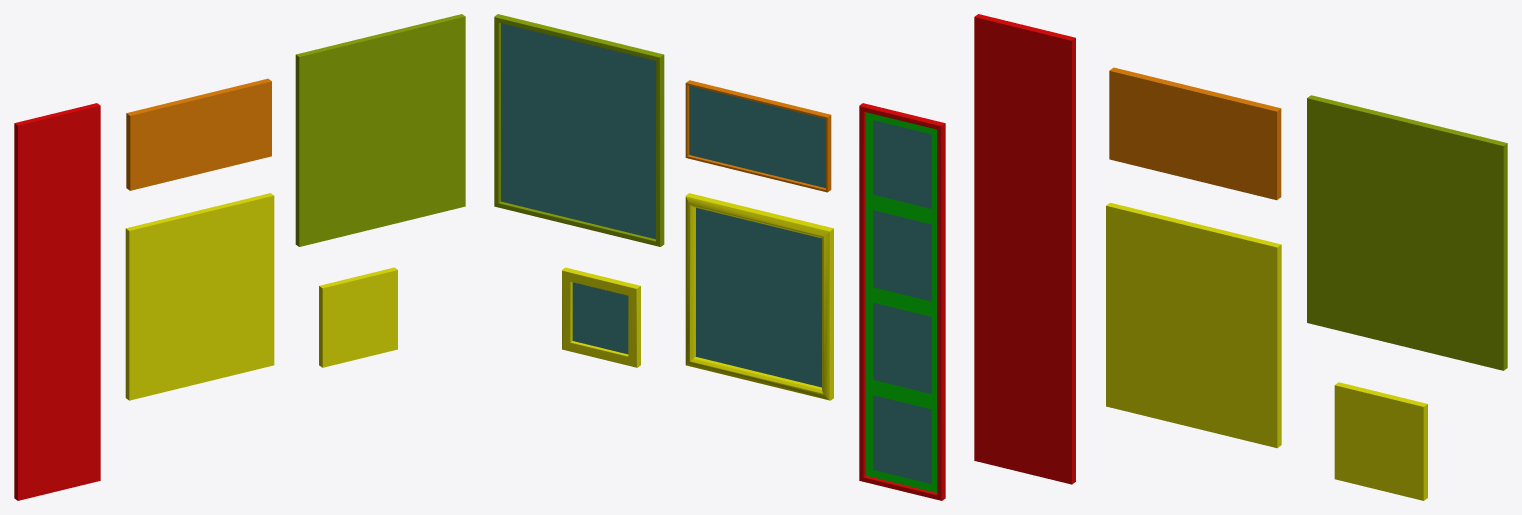
3 renders of one model, left to right at view 1: azimuth 30°, elevation 25°; view 2: azimuth 150°, elevation 25°; view 3: azimuth 330°, elevation 25°, orthographic. The views are drawn at different scales.
Parts seen in each view (by area): view 1: pCube129; view 2: pCube129; view 3: pCube129.
Boxes of the visible parts, x1,y1,x2,y2 form: pCube129: (14,14,465,500); pCube129: (494,14,945,500); pCube129: (974,14,1507,500).
Bounding box in the file's own units: 261 × 209 × 5.13.
